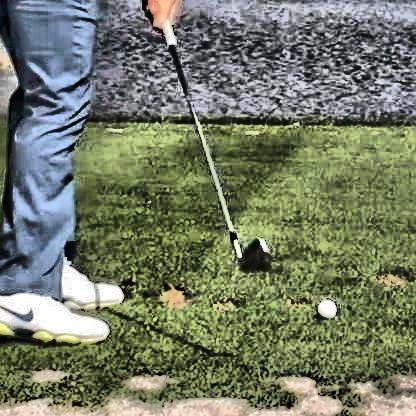golfball: (315, 297, 335, 317)
